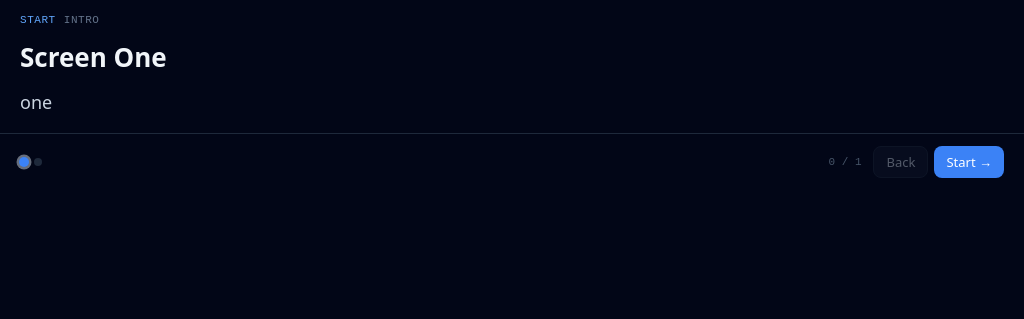
Test: CoursePlayer flag capstone › clears the wrong hint as soon as the field is edited again
This screenshot has width=1024, height=319.
Press Arrowright
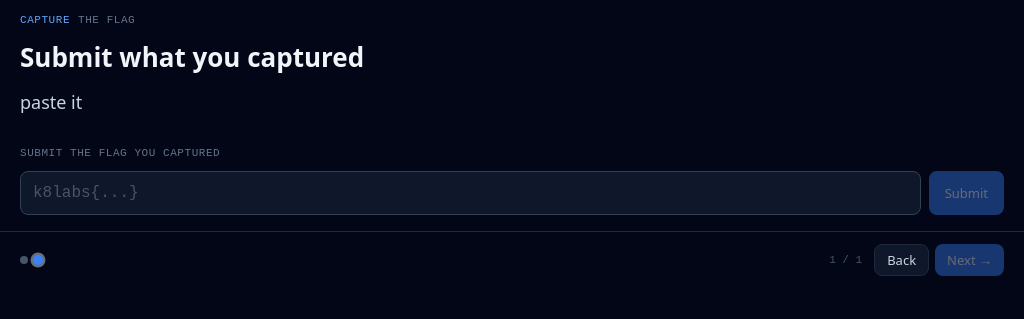
Type "nope" into the field with placeholder "k8labs{...}".
click(470, 193); type("nope")  # box [20,171,921,215]
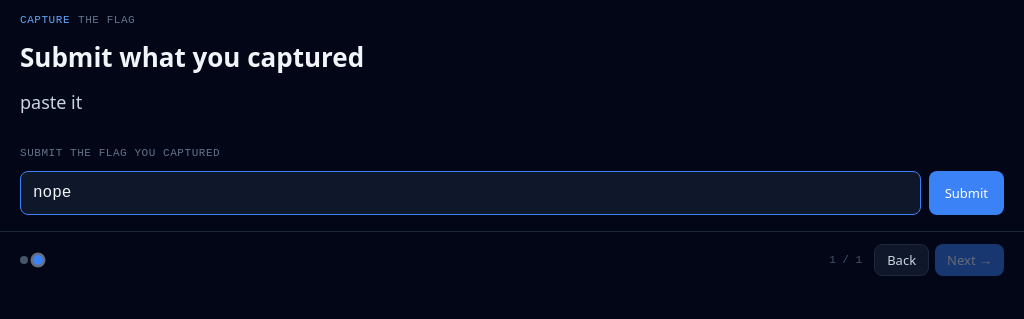
Click the button "Submit".
click(966, 193)  # box [929,171,1004,215]
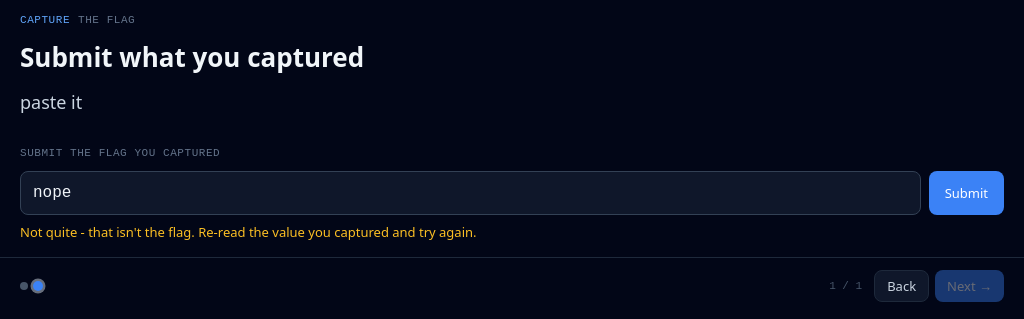
Expected: the text "Not quite" is shown, [20,223,476,241]
Type "x" into the field with placeholder "k8labs{...}".
click(470, 193); type("x")  # box [20,171,921,215]
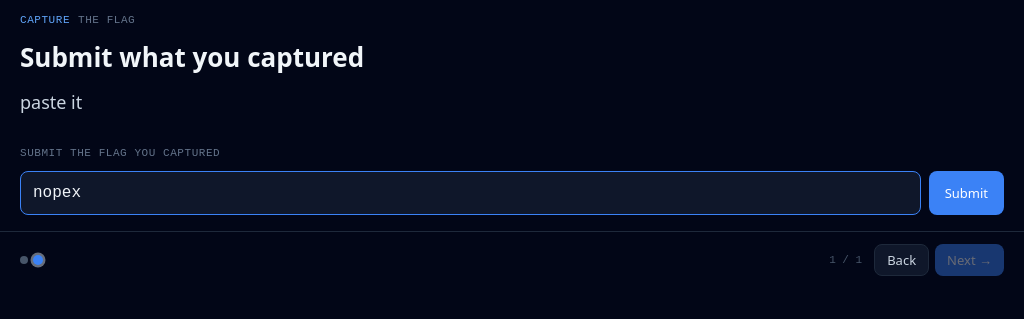
Expected: the text "Not quite" is gone
